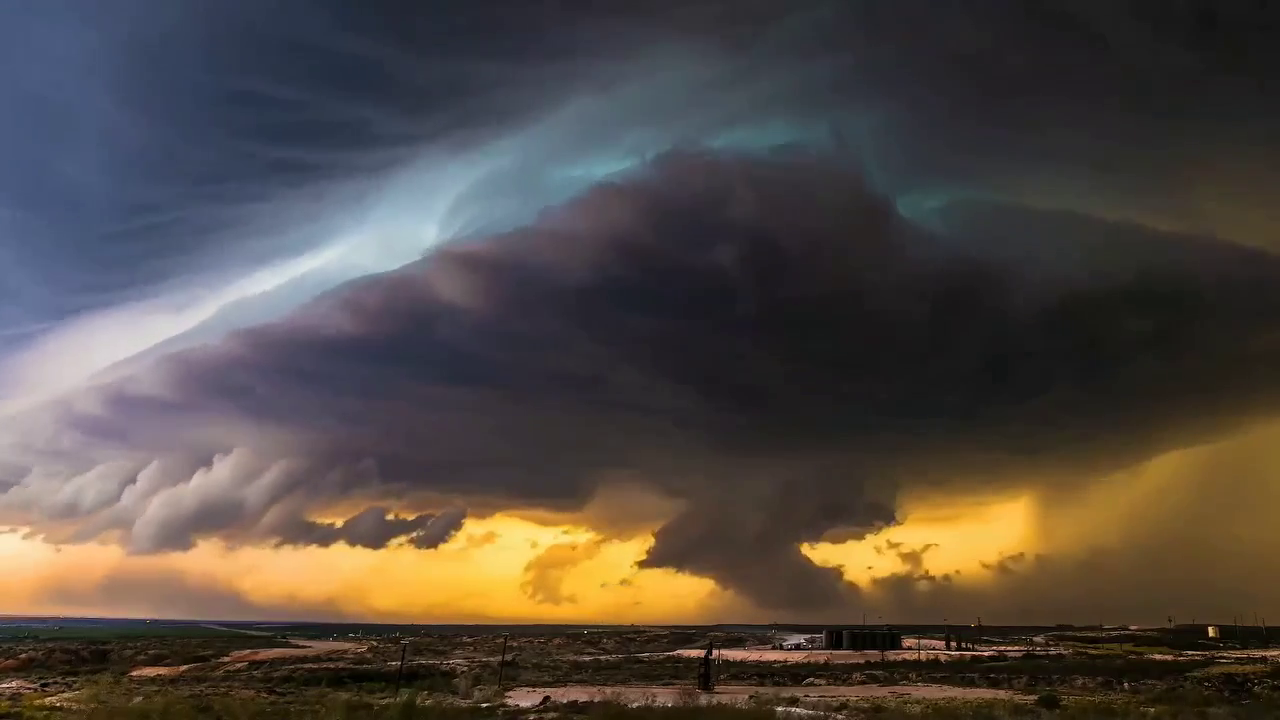RFD: (533, 444, 1274, 626)
mesocyclone: (1, 0, 1279, 514)
striations: (1, 246, 660, 466)
wall cloud: (4, 138, 1278, 589)
